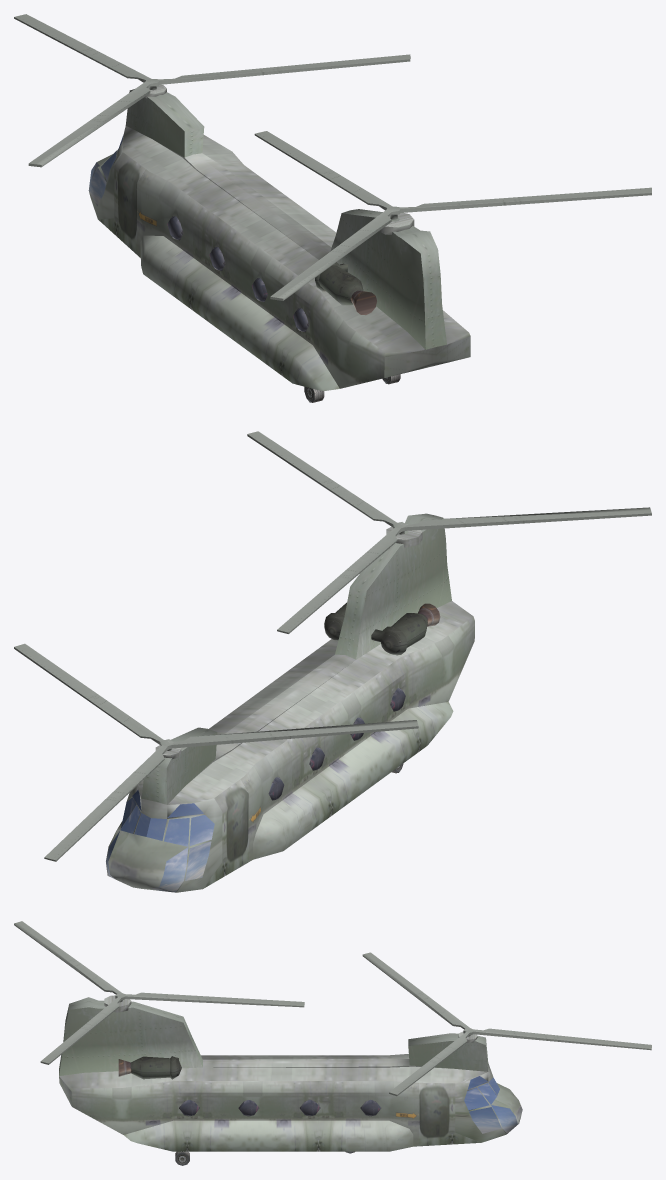
Rendered from ChinookMetLoopAnimatie.glb.
3 views of the same model, one above another, from view 1: azimuth 30°, elevation 25°; view 2: azimuth 150°, elevation 25°; view 3: azimuth 270°, elevation 25° (orthographic). The views are drawn at different scales.
Parts seen in each view (by area): view 1: Plane, Plane.002, Plane.003; view 2: Plane, Plane.003, Plane.002; view 3: Plane, Plane.002, Plane.003.
Part boxes in pixels (bbox=[...]): Plane: bbox=[88, 84, 470, 402]; Plane.002: bbox=[254, 131, 651, 300]; Plane.003: bbox=[14, 14, 410, 167]; Plane: bbox=[106, 513, 474, 892]; Plane.003: bbox=[14, 643, 418, 861]; Plane.002: bbox=[247, 431, 651, 633]; Plane: bbox=[59, 995, 522, 1165]; Plane.002: bbox=[14, 921, 304, 1064]; Plane.003: bbox=[362, 952, 651, 1096].
Bounding box in the file's own units: 7.73 × 4.18 × 14.78.
1 material, 1 textured.
